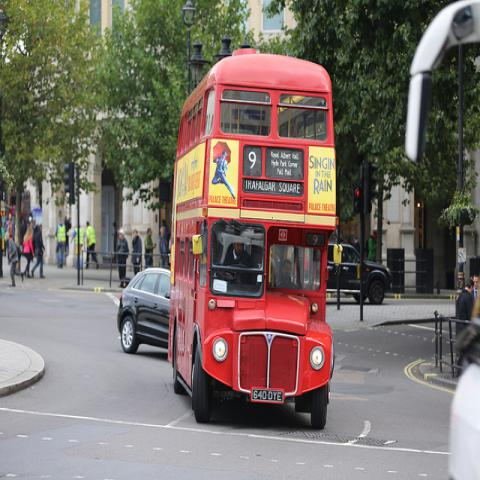bus: (167, 47, 337, 434)
car: (117, 269, 170, 354)
truck: (326, 242, 393, 305)
